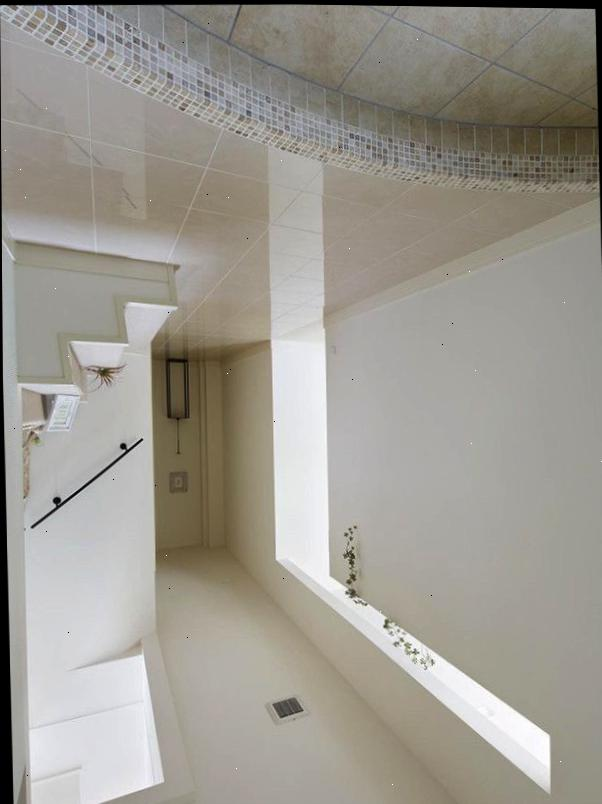floor: (162, 4, 598, 128)
safe: (0, 17, 600, 360)
